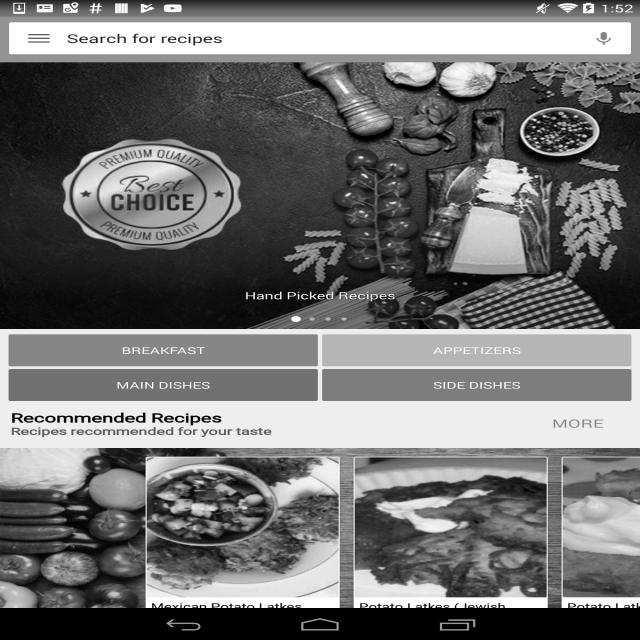Button: (8, 334, 318, 366), (322, 334, 632, 366), (8, 369, 318, 401), (322, 369, 632, 401)
ImageView: (0, 62, 640, 329), (0, 448, 640, 640), (146, 458, 338, 598), (354, 458, 546, 598), (562, 457, 640, 597), (590, 25, 617, 52), (26, 30, 52, 46)
TextView: (11, 409, 526, 438), (67, 25, 590, 52), (0, 289, 640, 302), (354, 598, 546, 624), (146, 597, 338, 613), (526, 409, 630, 438), (17, 29, 158, 47), (572, 22, 631, 54), (562, 597, 640, 612)
